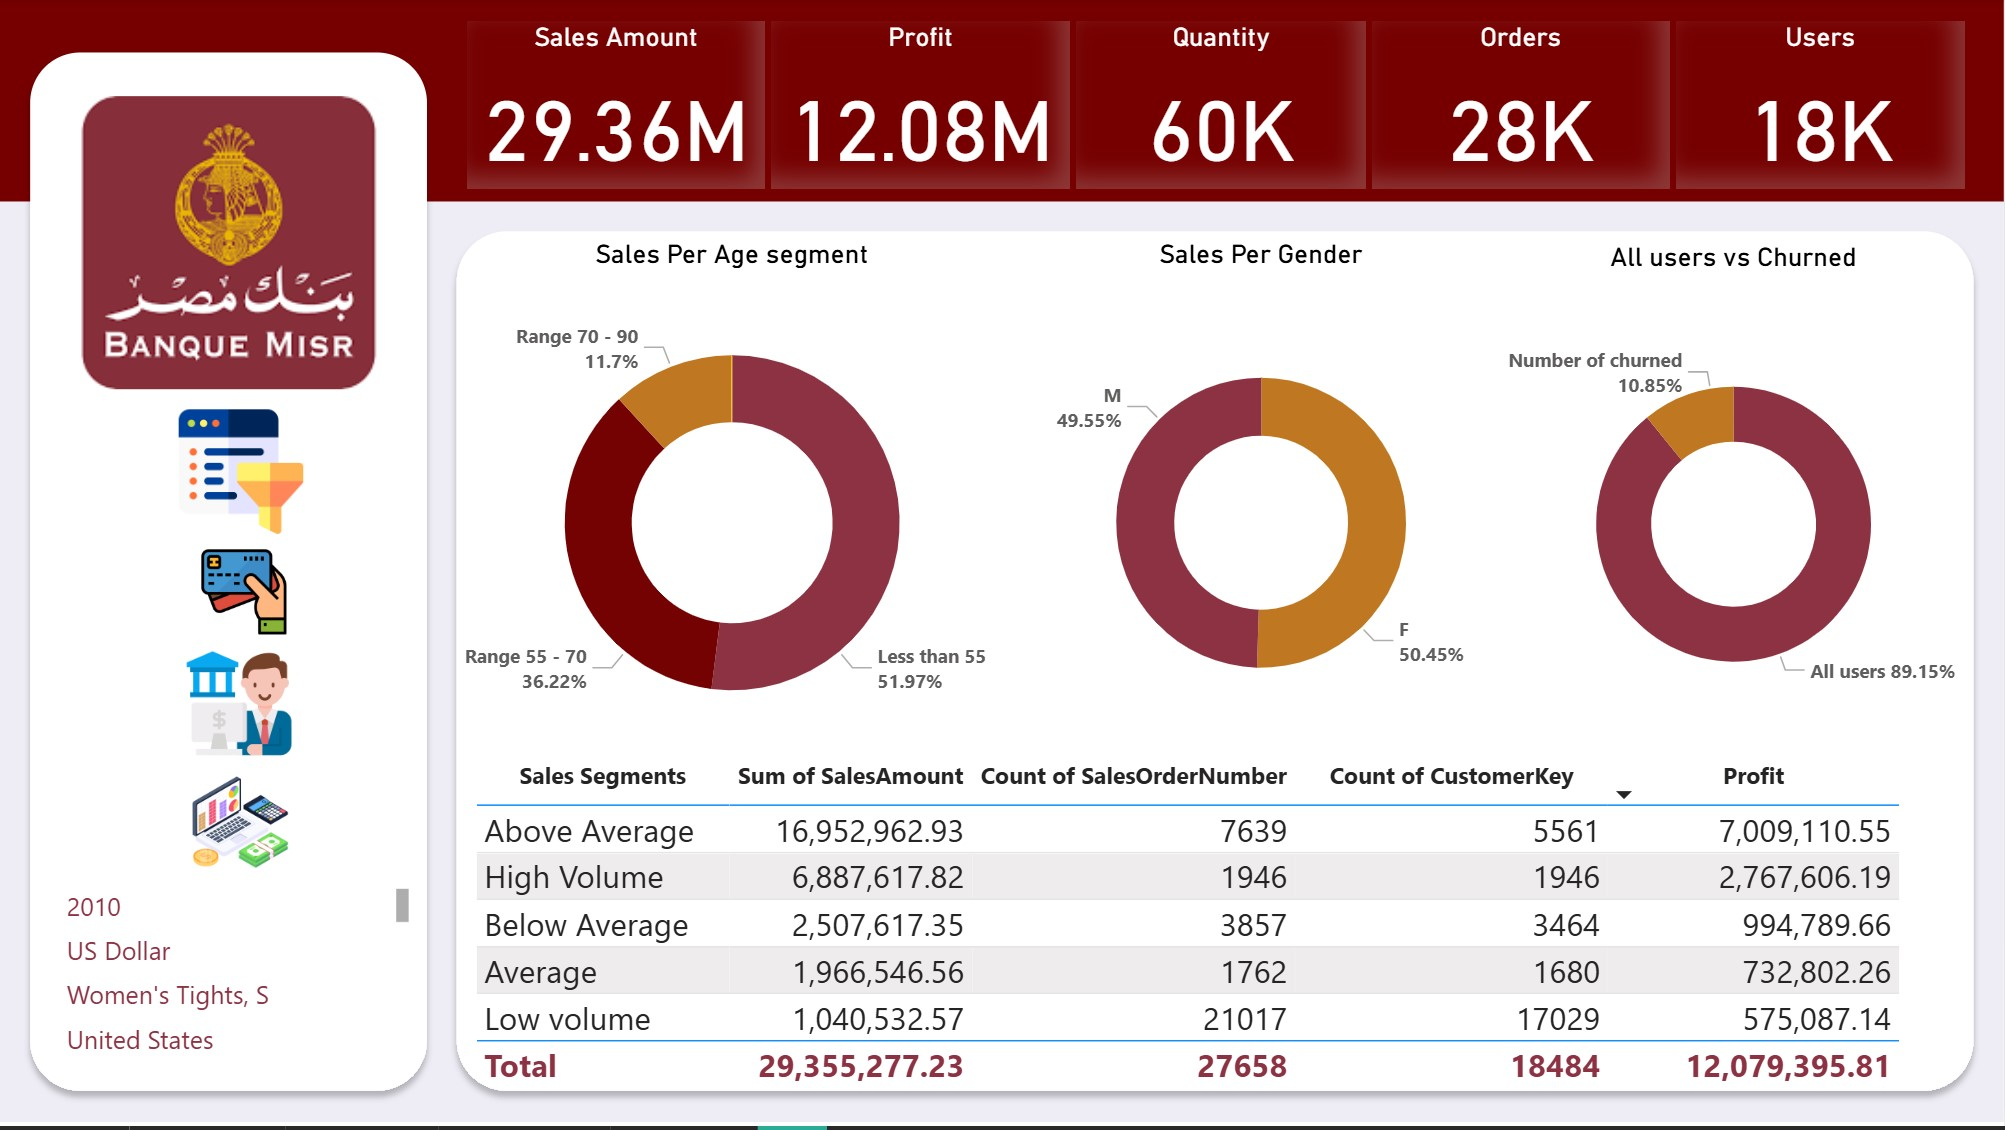

Layout of this report page (visuals, bound fields, positions):
{"tool":"powerbi","page":{"name":"Customers","canvas":[1280,720],"ordinal":2},"visuals":[{"type":"image","box":[47.3,56,201.5,201.5],"z":0},{"type":"card","title":"Sales Amount","fields":{"Values":["Sum(fact_InternetSales.SalesAmount)"]},"box":[298.8,16,190.1,107],"z":1000},{"type":"donutChart","title":"Sales Per Age segment","fields":{"Category":["dim_Customer.Age Segments"],"Y":["Sum(fact_InternetSales.SalesAmount)"]},"box":[284.8,154.2,366.9,343.3],"z":2000},{"type":"card","title":"Users","fields":{"Values":["dim_Customer.All users"]},"box":[1070.4,16,183.7,107],"z":3000},{"type":"card","title":"Orders","fields":{"Values":["fact_InternetSales.Orders"]},"box":[876.3,16,190.1,107],"z":4000},{"type":"card","title":"Quantity","fields":{"Values":["Sum(fact_InternetSales.OrderQuantity)"]},"box":[687,16,185.3,107],"z":5000},{"type":"tableEx","fields":{"Values":["fact_InternetSales.Sales Segments","Sum(fact_InternetSales.SalesAmount)","fact_InternetSales.SalesOrderNumber","fact_InternetSales.CustomerKey","fact_InternetSales.Profit"]},"box":[299,479.8,955.1,239.9],"z":15000},{"type":"donutChart","title":"Sales Per Gender","fields":{"Category":["dim_Customer.Gender"],"Y":["Sum(fact_InternetSales.SalesAmount)"]},"box":[651.7,154.2,307.2,343.3],"z":16000},{"type":"card","title":"Profit","fields":{"Values":["fact_InternetSales.Profit"]},"box":[492.9,16,190.1,107],"z":17000},{"type":"donutChart","title":"All users vs Churned","fields":{"Y":["dim_Customer.All users","dim_Customer.Number of churned"]},"box":[958.9,156.7,296,340.8],"z":18000},{"type":"image","box":[80.8,257.5,149.3,89.6],"z":19000},{"type":"image","box":[73.4,347,166.7,64.7],"z":20000},{"type":"image","box":[82.1,411.7,141.8,77.1],"z":21000},{"type":"image","box":[78.4,488.8,153,74.6],"z":22000},{"type":"multiRowCard","fields":{"Values":["fact_InternetSales.yearfilter","fact_InternetSales.currencynamefilter","fact_InternetSales.englishproductfilter","fact_InternetSales.territorycountryfilter"]},"box":[38.6,563.4,227.6,125.6],"z":23000}]}

Visuals, with their boxes in screenshot pixels (x1, y1, x2, y2), scaled from the page's 1280x720 canvas onto the 2005x1130 screenshot:
image: <bbox>74, 88, 390, 404</bbox>
"Sales Amount" card: <bbox>468, 25, 766, 193</bbox>
"Sales Per Age segment" donutChart: <bbox>446, 242, 1021, 781</bbox>
"Users" card: <bbox>1677, 25, 1964, 193</bbox>
"Orders" card: <bbox>1373, 25, 1670, 193</bbox>
"Quantity" card: <bbox>1076, 25, 1366, 193</bbox>
tableEx - fact_InternetSales.Sales Segments x Sum(fact_InternetSales.SalesAmount): <bbox>468, 753, 1964, 1129</bbox>
"Sales Per Gender" donutChart: <bbox>1021, 242, 1502, 781</bbox>
"Profit" card: <bbox>772, 25, 1070, 193</bbox>
"All users vs Churned" donutChart: <bbox>1502, 246, 1966, 781</bbox>
image: <bbox>127, 404, 360, 545</bbox>
image: <bbox>115, 545, 376, 646</bbox>
image: <bbox>129, 646, 351, 767</bbox>
image: <bbox>123, 767, 362, 884</bbox>
multiRowCard - fact_InternetSales.yearfilter x fact_InternetSales.currencynamefilter: <bbox>60, 884, 417, 1081</bbox>
